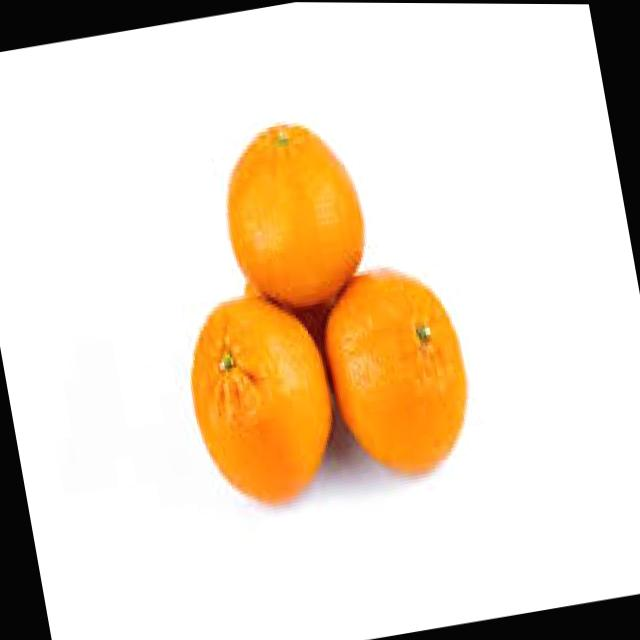orange: (310, 252, 480, 485), (177, 281, 346, 514), (214, 112, 374, 315)
